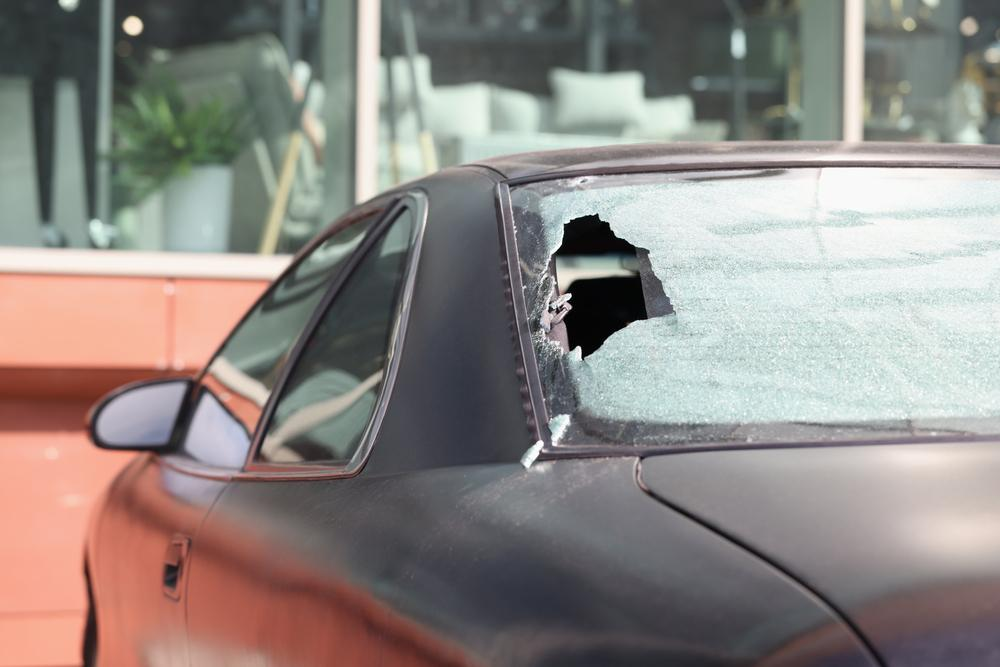glass shatter: (509, 165, 1000, 447)
